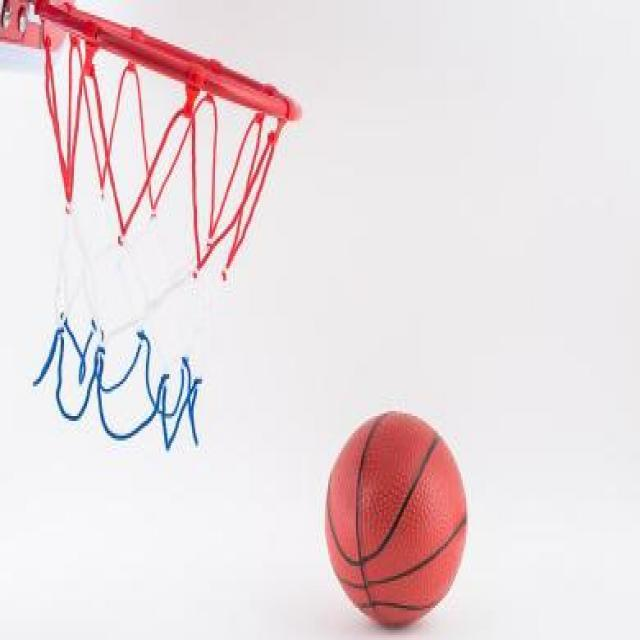rim: (325, 411, 471, 628)
